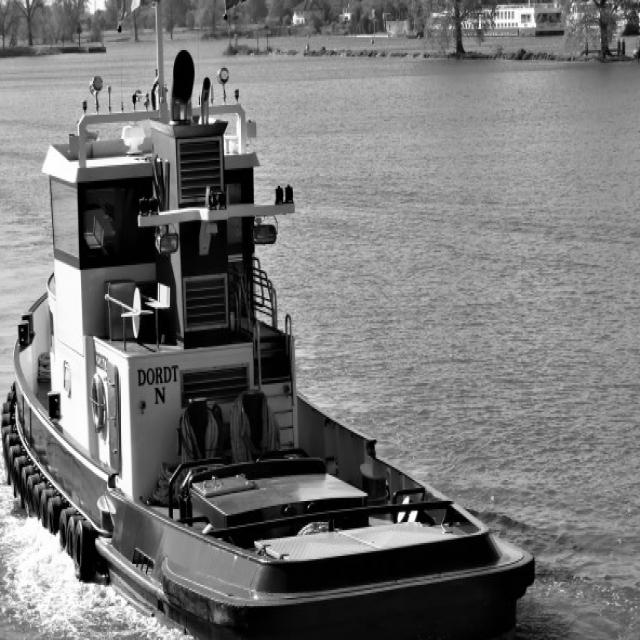tugboat: (1, 1, 544, 640)
